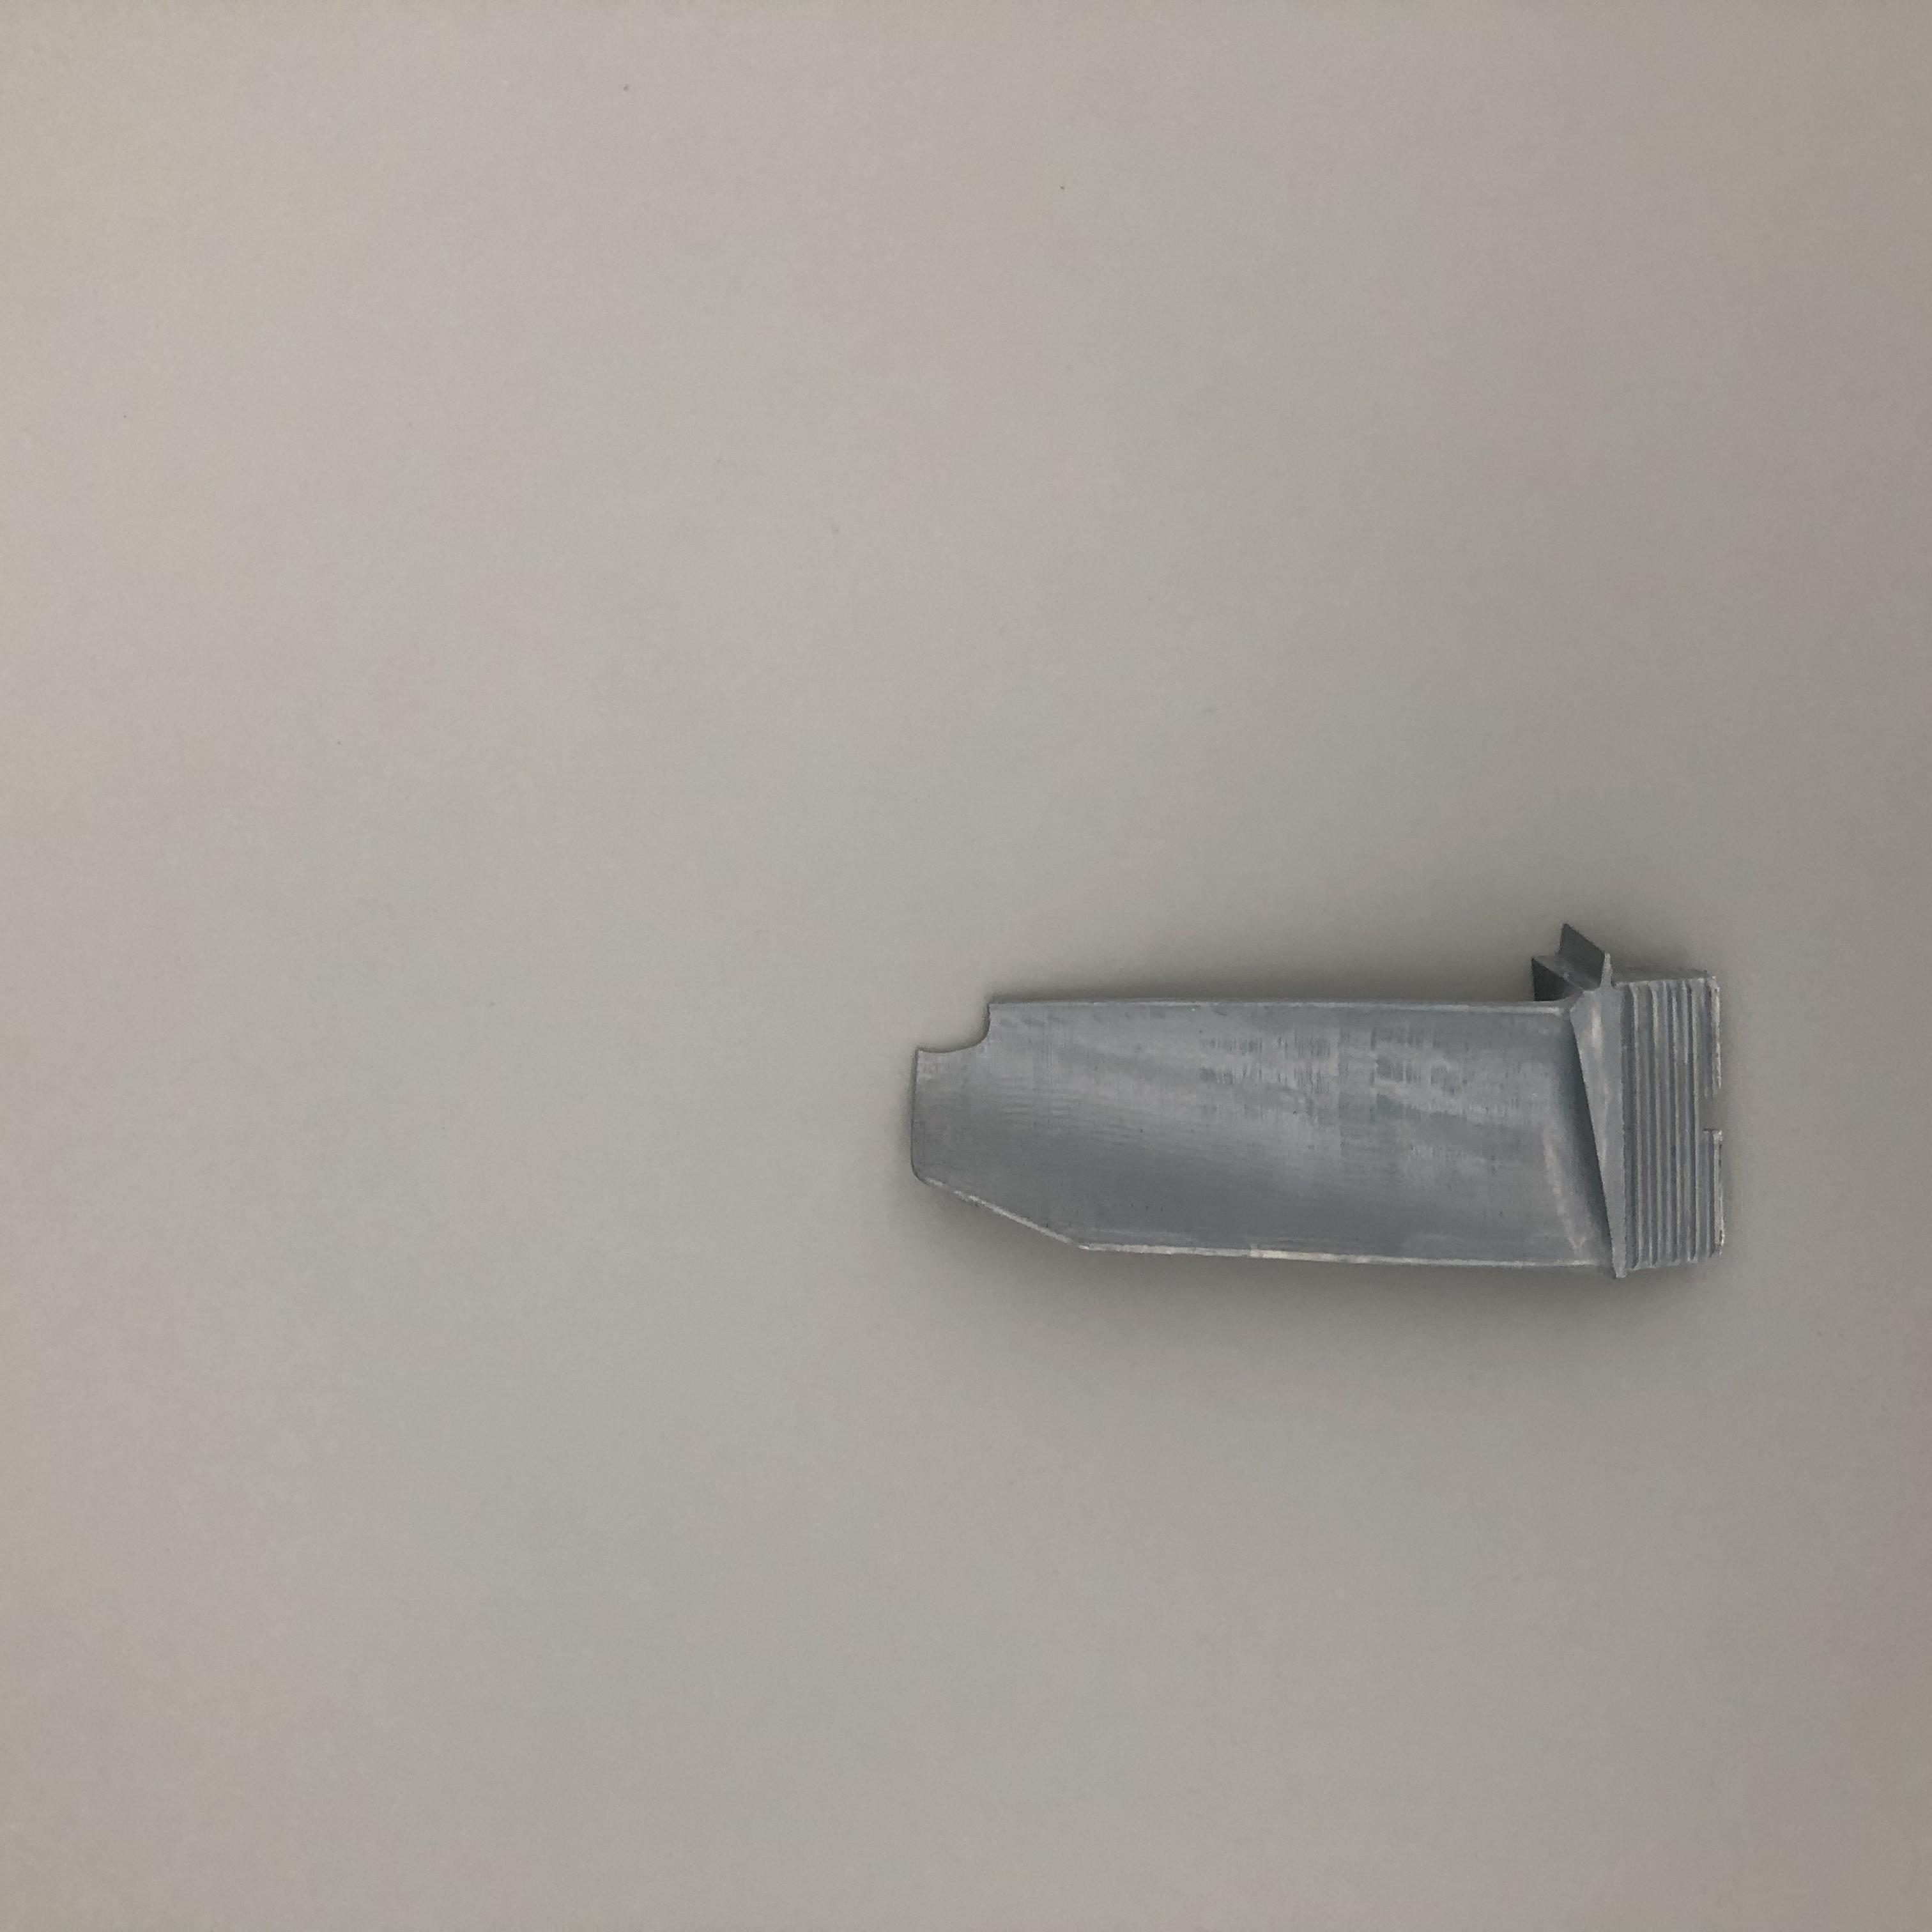fracture: (913, 985, 1028, 1099)
